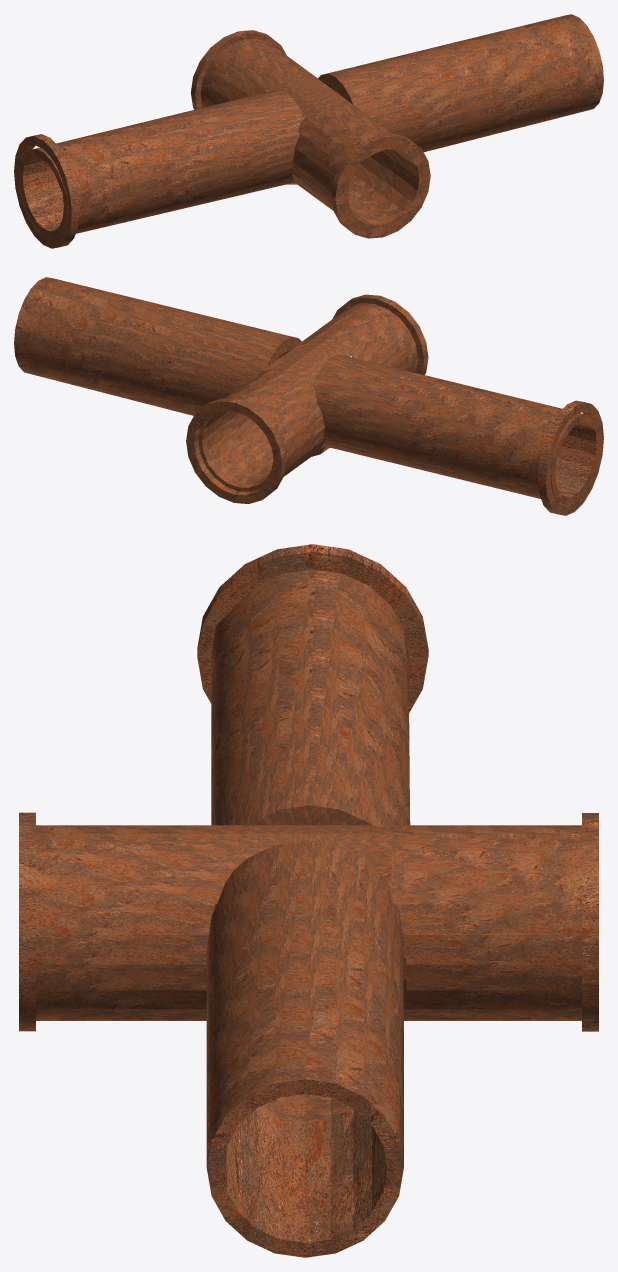
File: pipe 6 c.fbx
The picture shows the model from 3 angles, top to bottom: view 1: azimuth 30°, elevation 25°; view 2: azimuth 150°, elevation 25°; view 3: azimuth 270°, elevation 25°; orthographic projection. The views are drawn at different scales.
Visible parts, largest first — view 1: pCylinder182; view 2: pCylinder182; view 3: pCylinder182.
Part boxes in pixels (x1,y1,x2,y2): pCylinder182: (14, 14, 603, 248); pCylinder182: (14, 277, 603, 515); pCylinder182: (19, 544, 598, 1257).
Bounding box in the file's own units: 9813 × 1906 × 4609.
